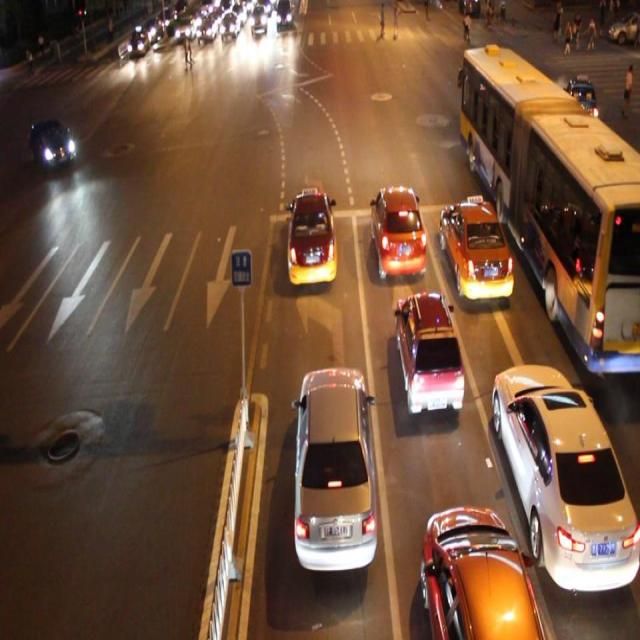car: (490, 358, 640, 594), (293, 367, 377, 572), (423, 502, 543, 640), (393, 294, 463, 414), (440, 195, 511, 299), (285, 187, 336, 286), (370, 184, 426, 274), (30, 118, 77, 170)
van: (460, 43, 640, 379)
